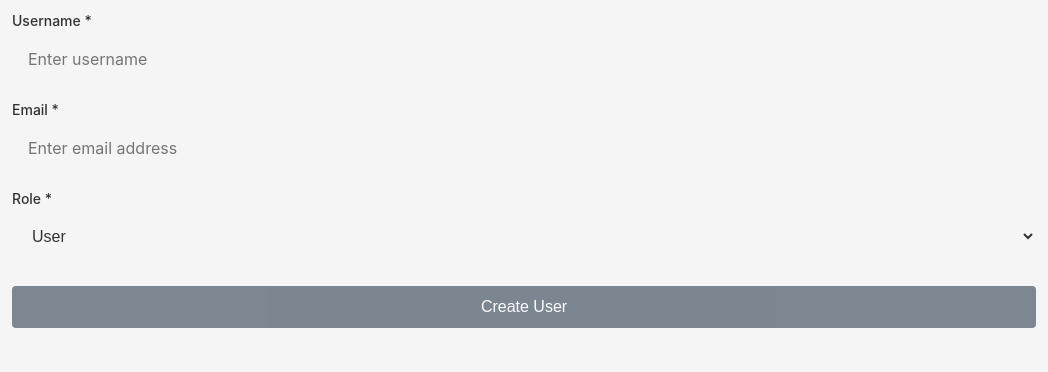
Test: UserForm › Form Validation › clears field error when user starts typing
Type 'a' which is too short (error shows immediately with real-time validation)
In the field labelled "Username *": [524, 59] box [12,37,1036,81], type "a"
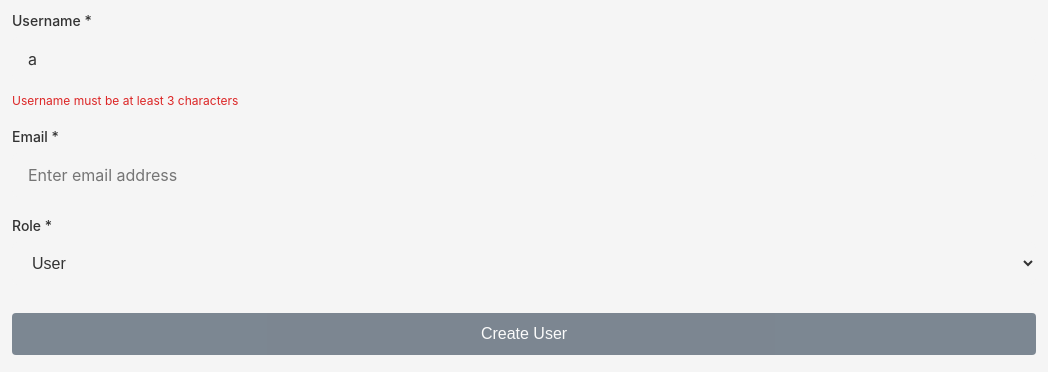
Expected: the text "Username must be at least 3 characters" is shown, [12,93,238,108]
Type more characters to fix the error
In the field labelled "Username *": [524, 59] box [12,37,1036,81], type "bc"
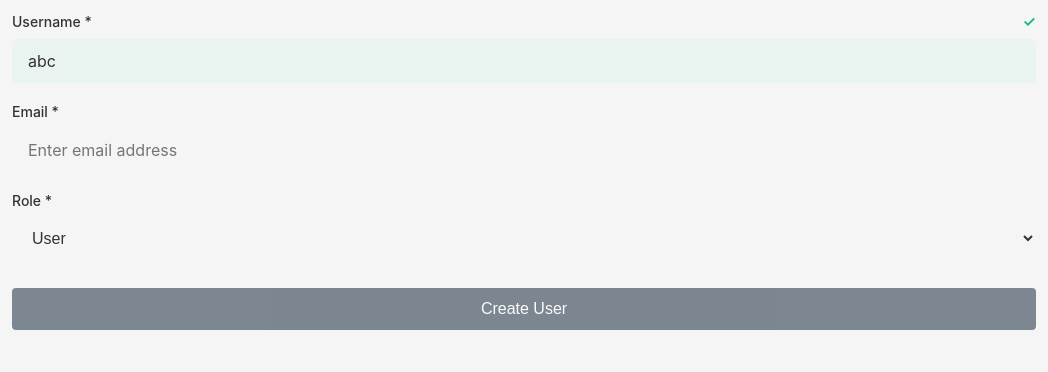
Expected: the text "Username must be at least 3 characters" is gone
